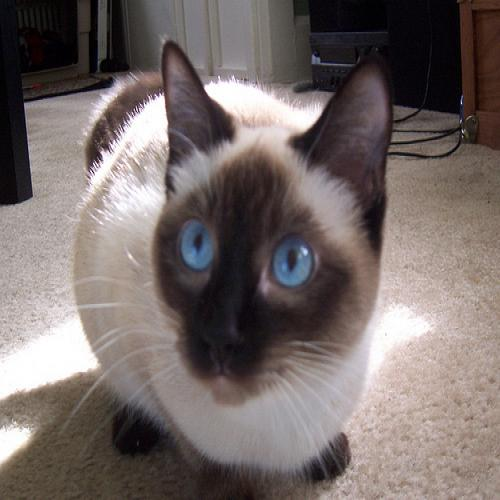siamese: (132, 21, 434, 431)
